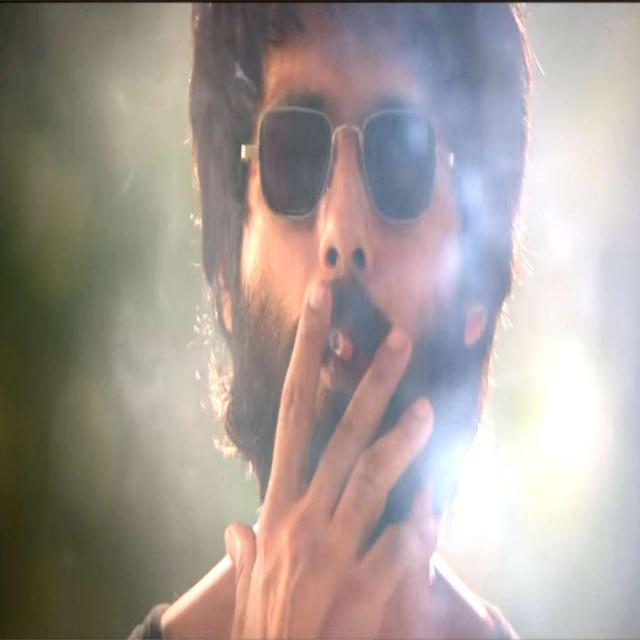smoke: (328, 316, 349, 379)
